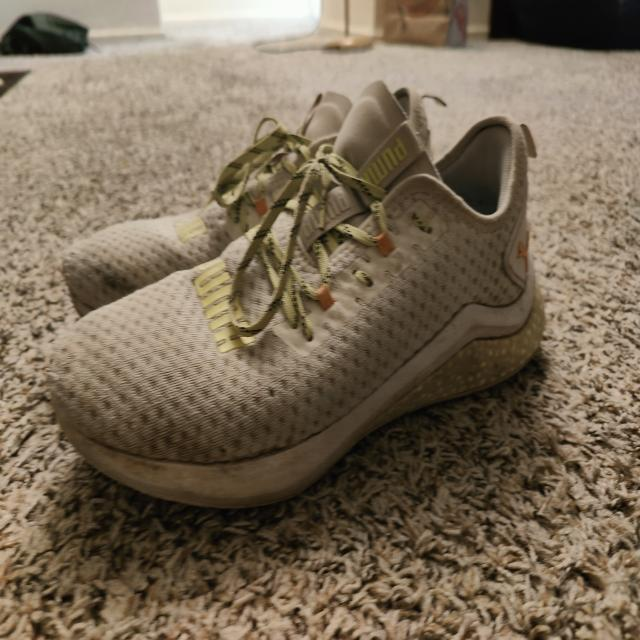white shoes: (47, 94, 544, 496)
